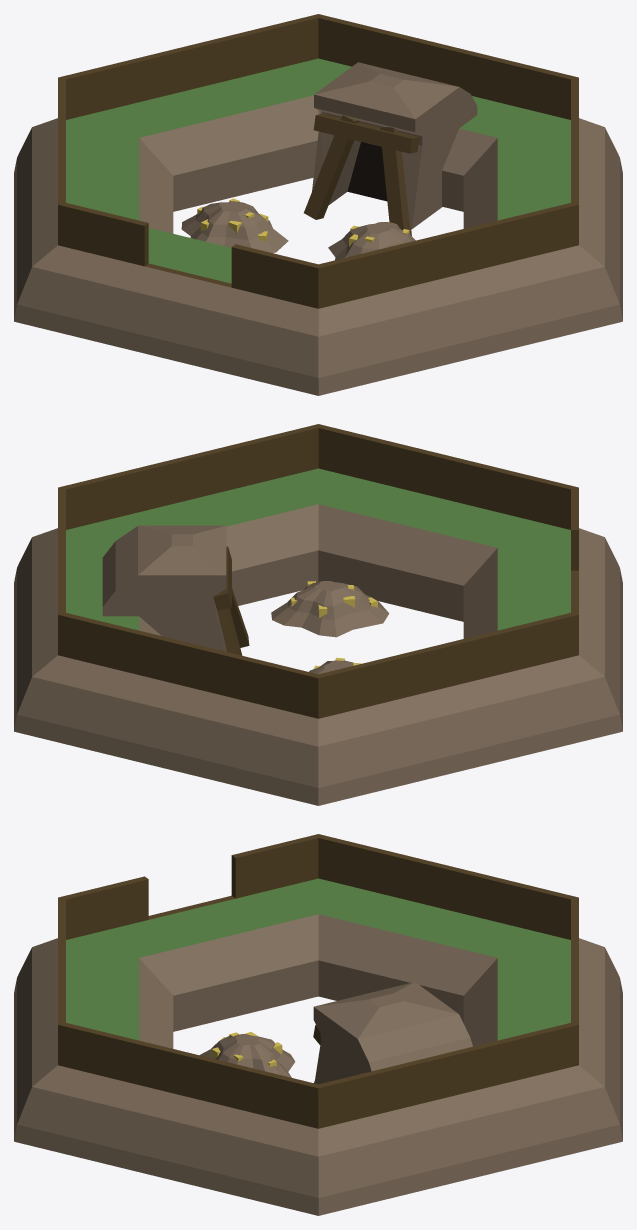
The model's file is MJ_Building_Mines.fbx.
3 renders of one model, top to bottom at view 1: azimuth 30°, elevation 25°; view 2: azimuth 150°, elevation 25°; view 3: azimuth 270°, elevation 25°, orthographic.
Visible parts, largest first — view 1: Model, Group2, Group1; view 2: Model, Group2, Group1; view 3: Model, Group2, Group1.
Boxes of the visible parts, x1,y1,x2,y2 form: Model: (14, 14, 622, 395); Group2: (304, 62, 477, 235); Group1: (181, 198, 415, 260); Model: (14, 424, 622, 805); Group2: (102, 525, 249, 655); Group1: (271, 581, 389, 674); Model: (14, 834, 622, 1215); Group2: (313, 982, 472, 1084); Group1: (199, 1032, 295, 1077).
Size of the model in its own units: 5.82 by 1.17 by 5.04.
